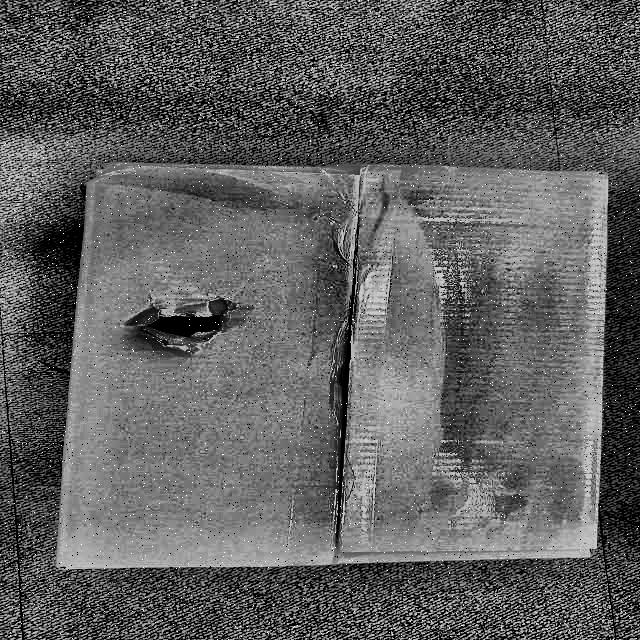box: (48, 152, 626, 578)
hole: (119, 292, 239, 356)
